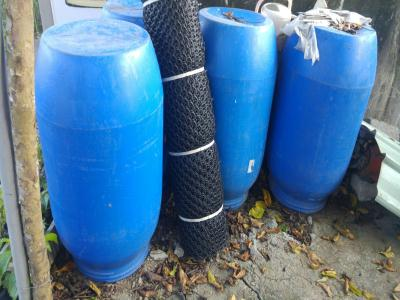bucket: (34, 14, 168, 284), (264, 10, 381, 216), (196, 3, 279, 214)
